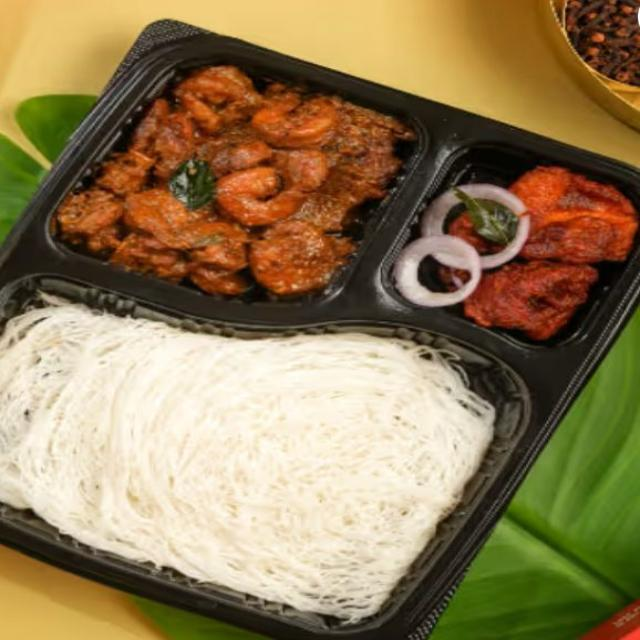CHICKEN FRY: (456, 163, 637, 342)
FISH CURRY: (58, 65, 411, 301)
IDIYAPPAM: (0, 298, 505, 622)
